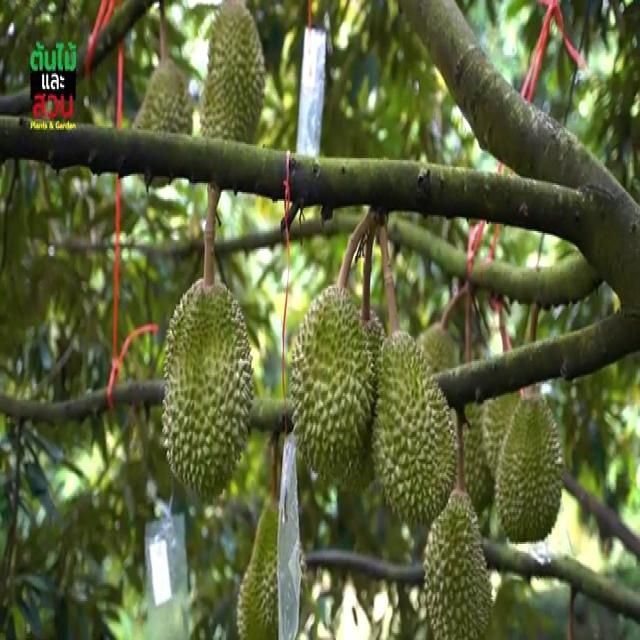durian: (156, 274, 258, 506), (368, 322, 461, 526), (286, 280, 378, 486), (196, 1, 268, 174), (494, 381, 564, 552), (421, 483, 495, 638), (235, 491, 307, 638), (125, 61, 194, 193), (480, 356, 538, 502)
